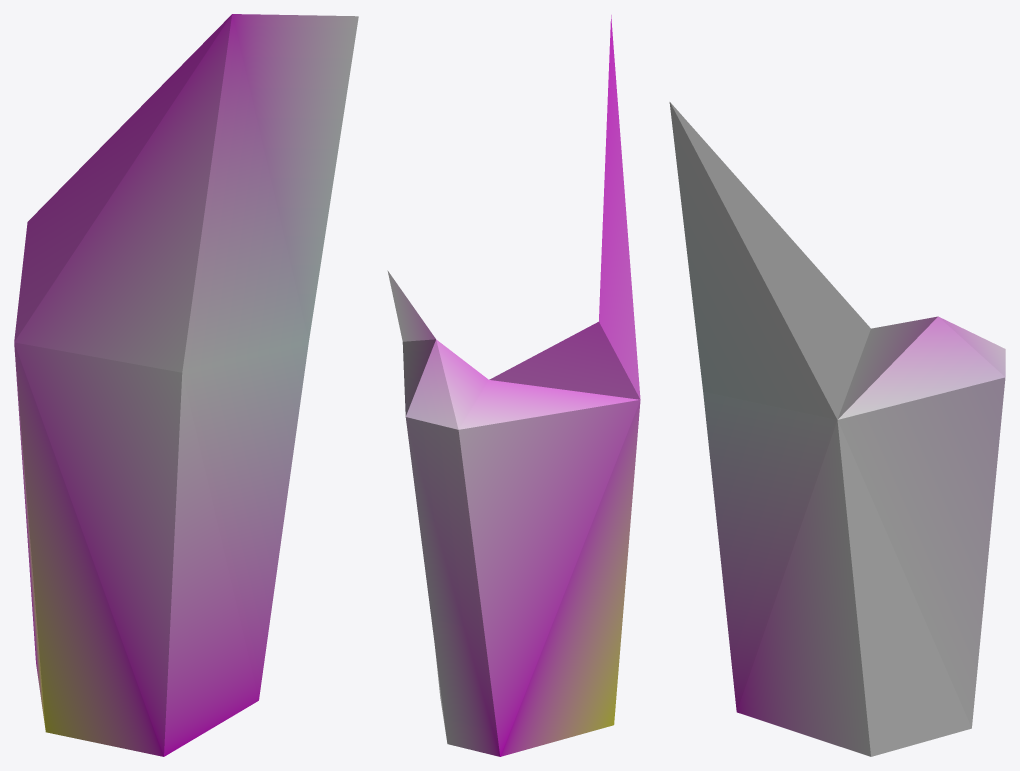
The picture shows the model from 3 angles, left to right: view 1: azimuth 30°, elevation 25°; view 2: azimuth 150°, elevation 25°; view 3: azimuth 270°, elevation 25°; orthographic projection. The views are drawn at different scales.
Parts seen in each view (by area): view 1: model_117B; view 2: model_117B; view 3: model_117B.
Part boxes in pixels (bbox=[...]): model_117B: bbox=[14, 14, 358, 756]; model_117B: bbox=[387, 15, 640, 756]; model_117B: bbox=[669, 102, 1005, 756].
Size of the model in its own units: 9 by 23 by 10.
